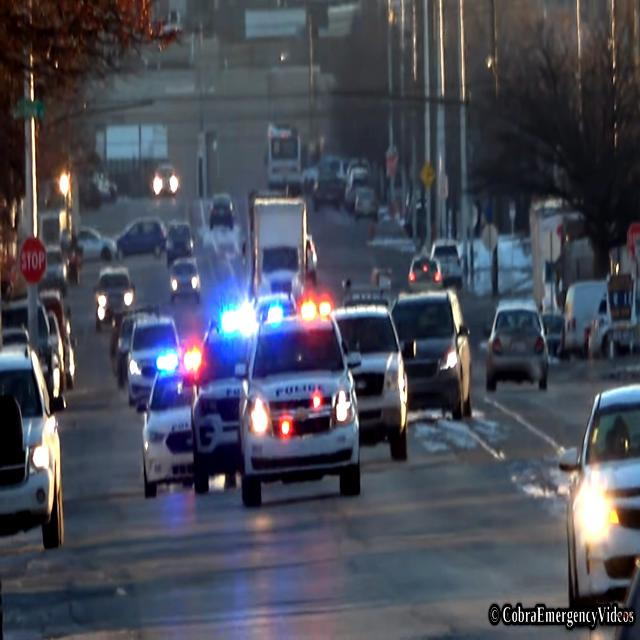emergency-vehicles: (123, 268, 376, 513)
